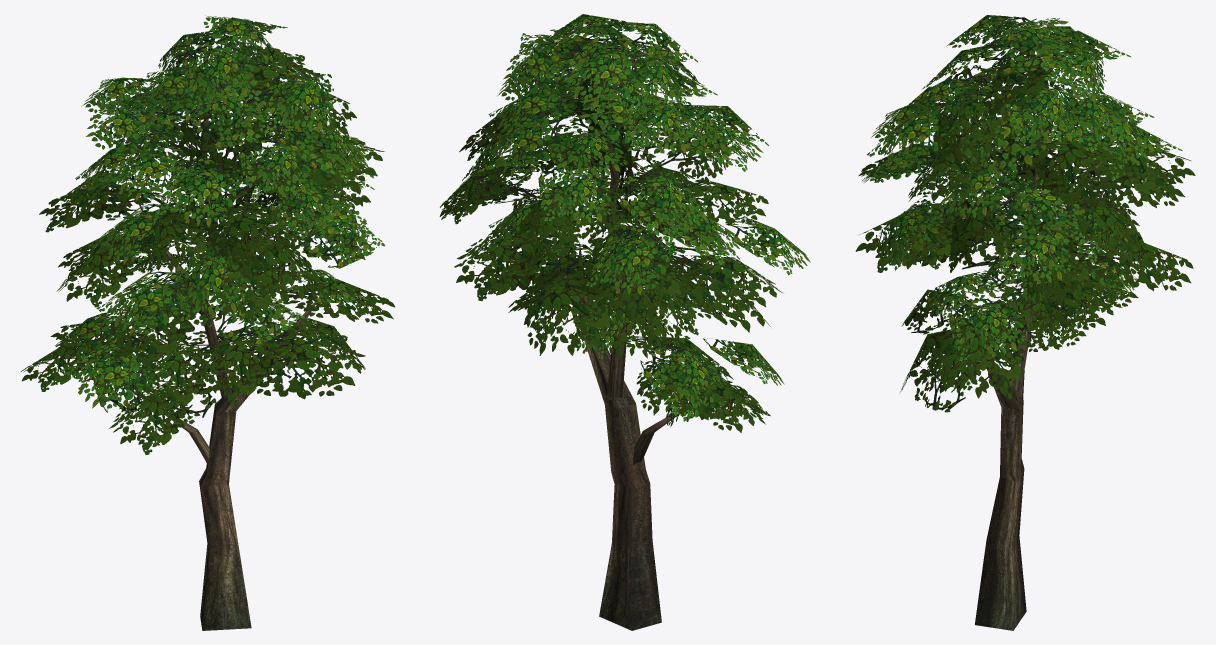
File: Tree01.FBX
3 views of the same model, side by side, from view 1: azimuth 30°, elevation 25°; view 2: azimuth 150°, elevation 25°; view 3: azimuth 270°, elevation 25° (orthographic). The views are drawn at different scales.
Visible parts, largest first — view 1: Tree01; view 2: Tree01; view 3: Tree01.
Boxes of the visible parts, x1,y1,x2,y2 form: Tree01: (21,15,394,630); Tree01: (439,14,810,630); Tree01: (855,15,1195,630).
Size of the model in its own units: 551 by 935 by 496.
